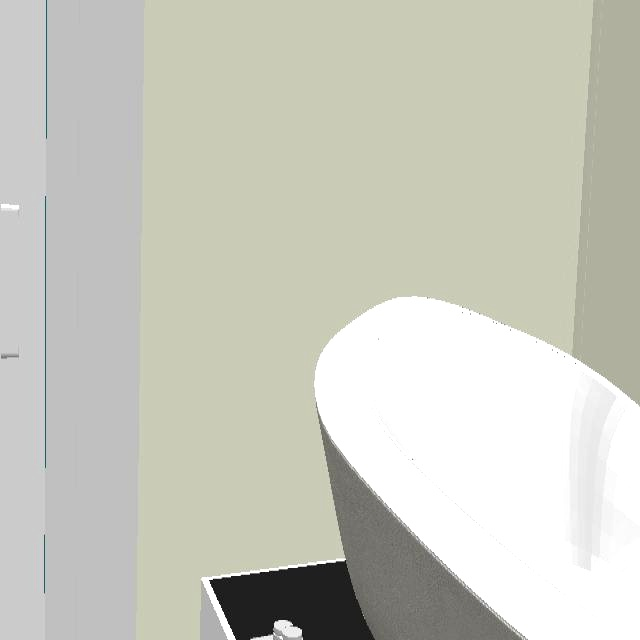bathtube: (314, 297, 640, 640)
